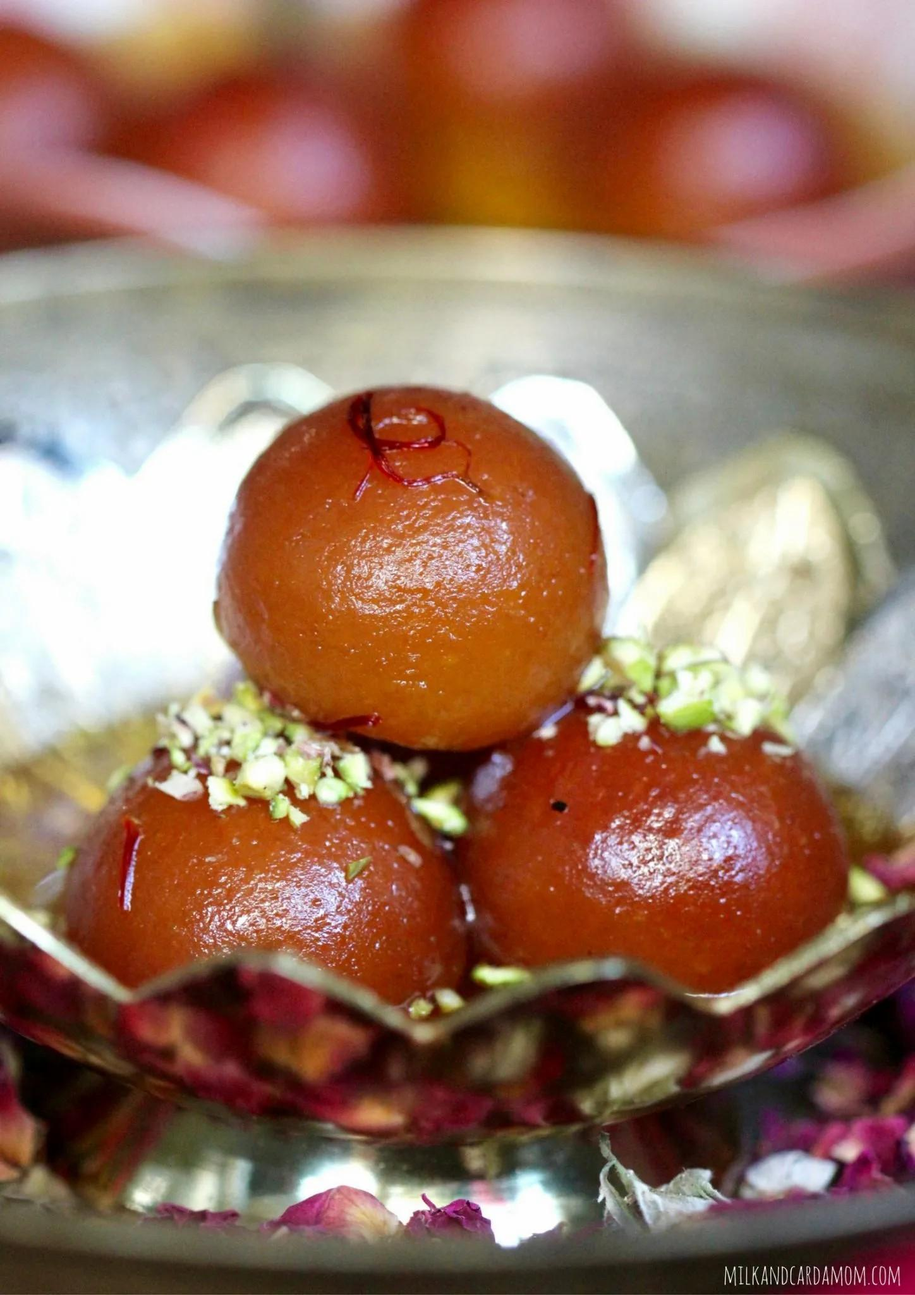GulabJamun: (211, 386, 612, 763), (462, 645, 845, 1001), (56, 699, 468, 1011)
